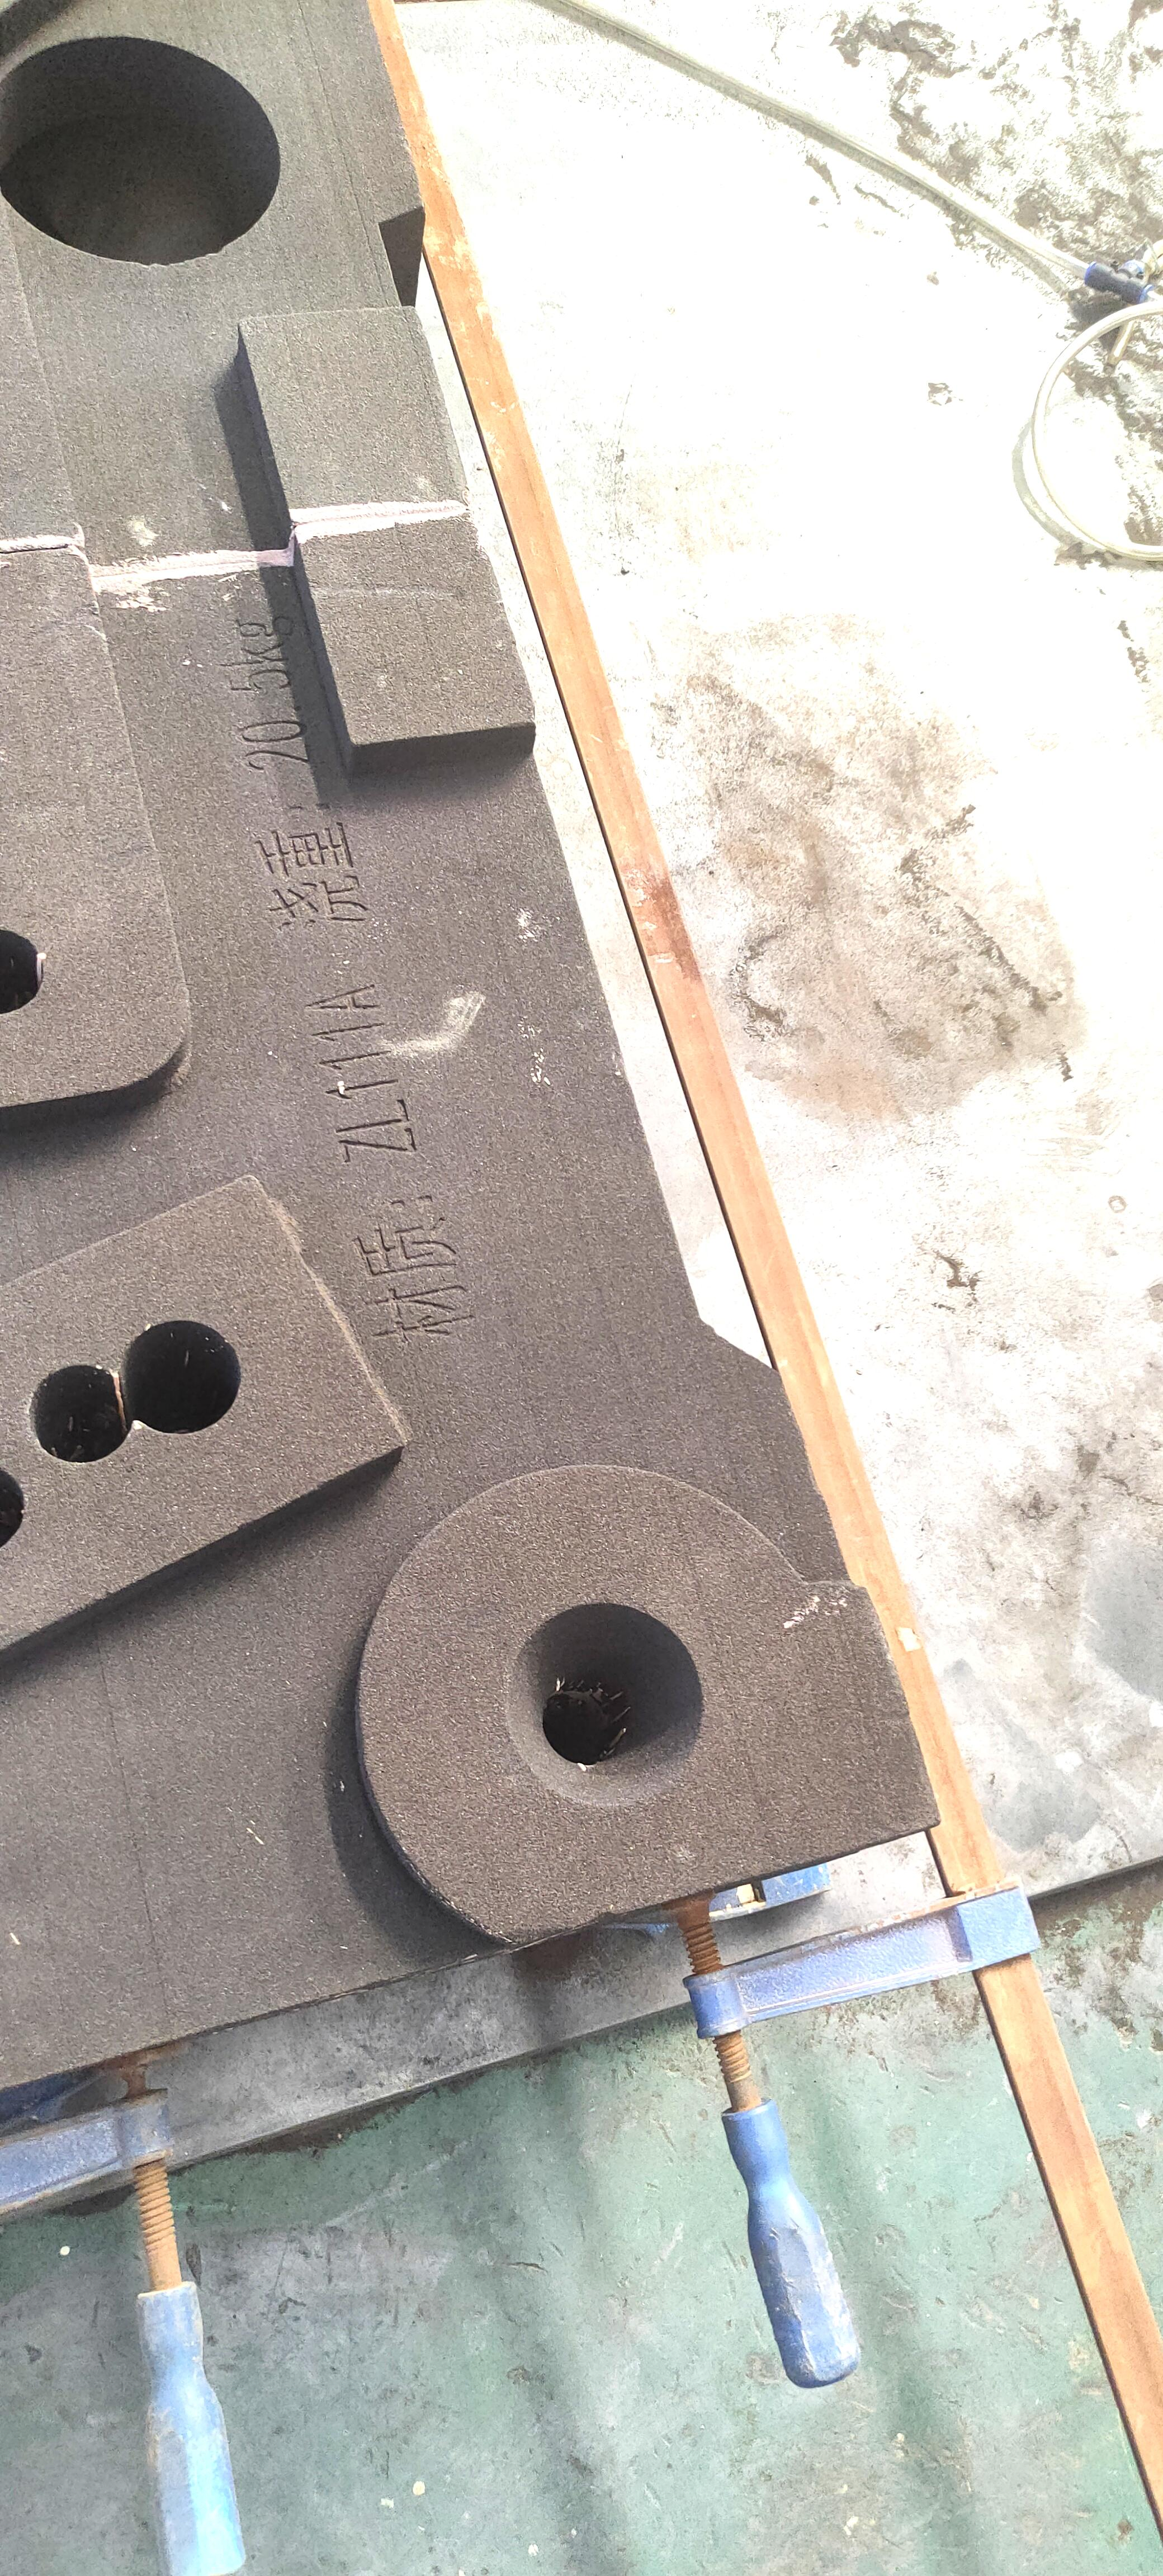pouring hole: (499, 1602, 710, 1809)
